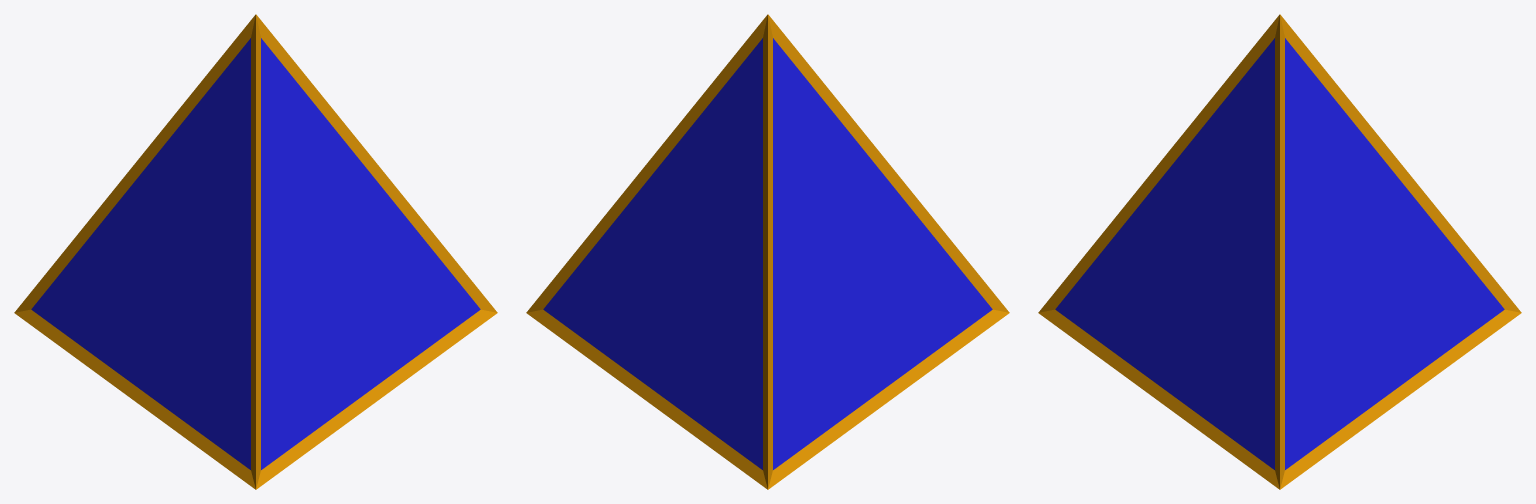
3 views of the same model, side by side, from view 1: azimuth 30°, elevation 25°; view 2: azimuth 150°, elevation 25°; view 3: azimuth 270°, elevation 25° (orthographic).
Parts seen in each view (by area): view 1: Solid; view 2: Solid; view 3: Solid.
Part boxes in pixels (x1=…): Solid: x1=14, y1=14, x2=497, y2=489; Solid: x1=526, y1=14, x2=1009, y2=489; Solid: x1=1038, y1=14, x2=1521, y2=489.
Size of the model in its own units: 2.25 by 2.13 by 2.6.
